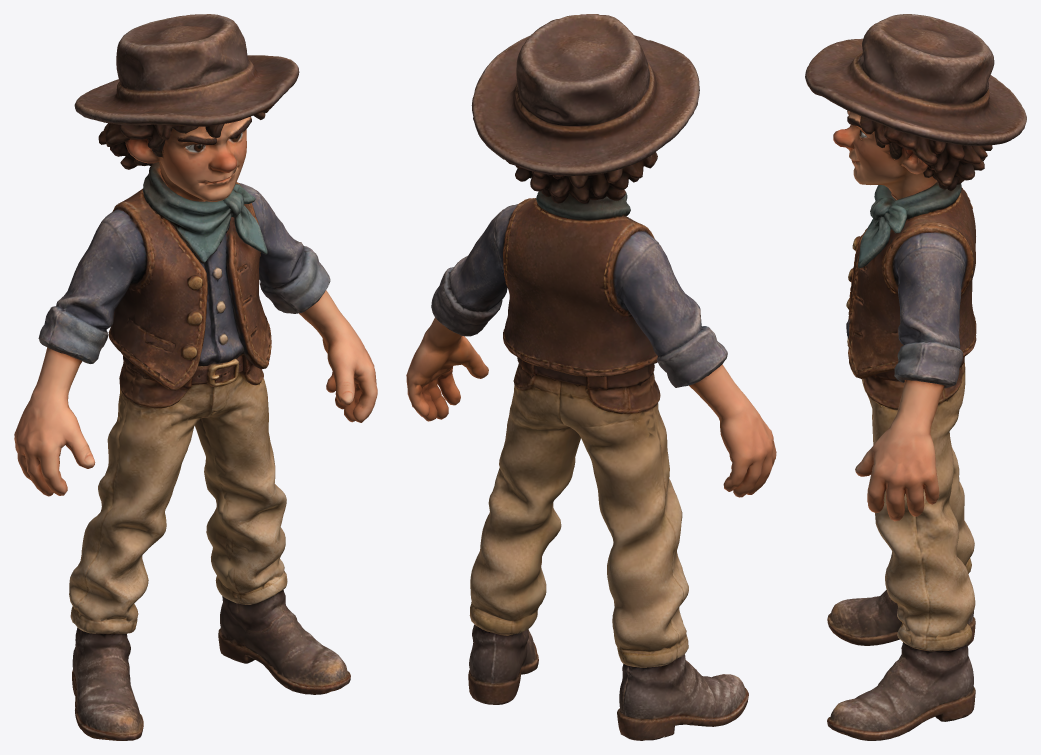
The model's file is billy.glb.
The picture shows the model from 3 angles, left to right: view 1: azimuth 30°, elevation 25°; view 2: azimuth 150°, elevation 25°; view 3: azimuth 270°, elevation 25°; orthographic projection. The views are drawn at different scales.
Visible parts, largest first — view 1: tripo_node_2bb9a910-c0d8-408d-8519-0cc42030ca61; view 2: tripo_node_2bb9a910-c0d8-408d-8519-0cc42030ca61; view 3: tripo_node_2bb9a910-c0d8-408d-8519-0cc42030ca61.
Part boxes in pixels (x1,y1,x2,y2): tripo_node_2bb9a910-c0d8-408d-8519-0cc42030ca61: (14, 14, 377, 740); tripo_node_2bb9a910-c0d8-408d-8519-0cc42030ca61: (406, 14, 776, 740); tripo_node_2bb9a910-c0d8-408d-8519-0cc42030ca61: (805, 14, 1026, 740).
Size of the model in its own units: 0.5347 by 0.98 by 0.3002.
1 material, 1 textured.
